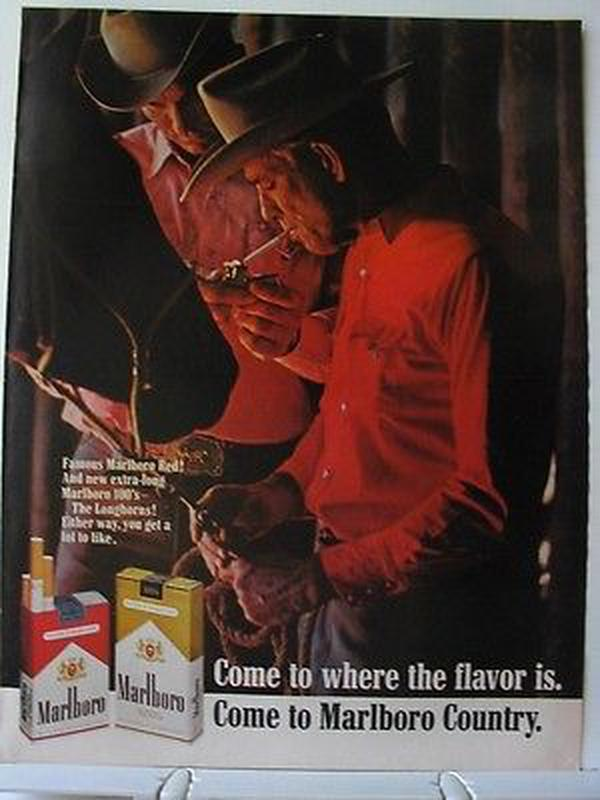marlboro_red: (34, 605, 105, 729)
